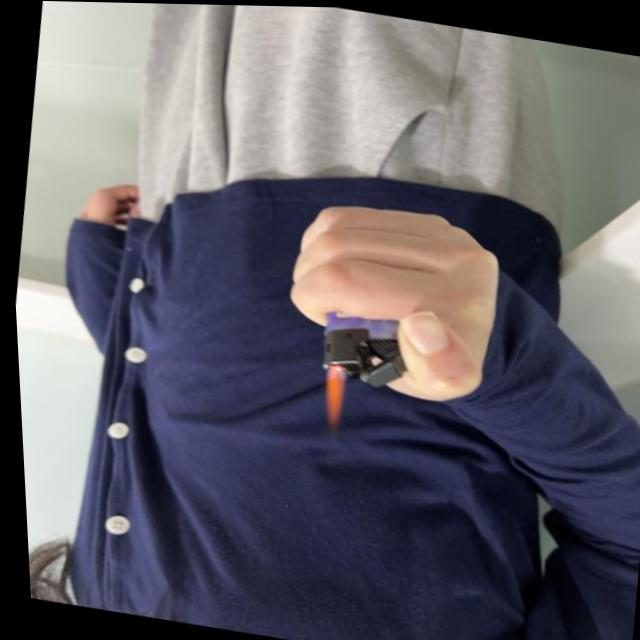Fire: (312, 361, 346, 427)
